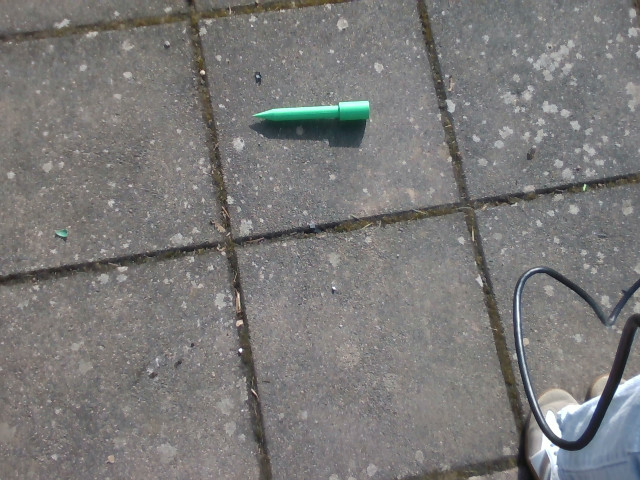Probe: (248, 94, 375, 129)
